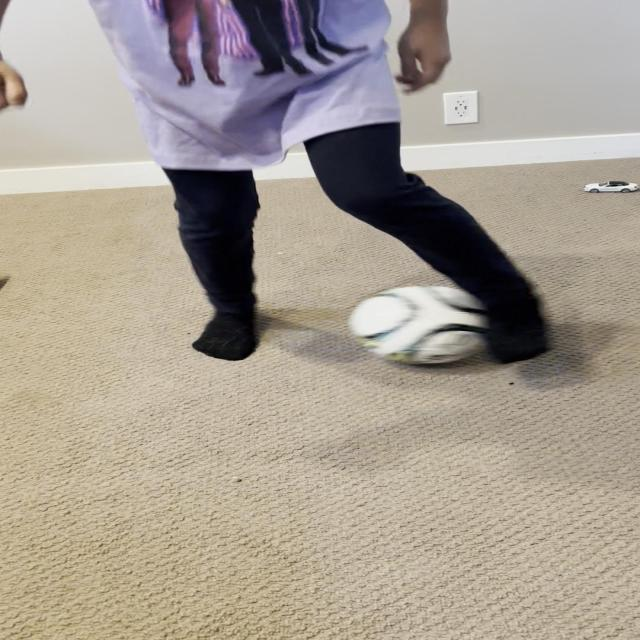Soccer Ball: (346, 284, 499, 364)
